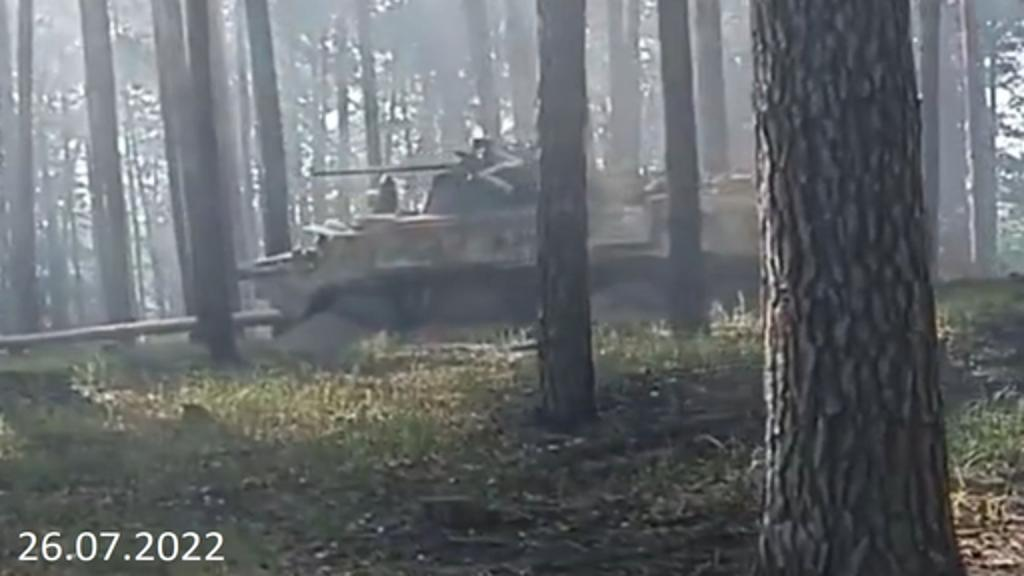APC-IFV: (234, 120, 832, 324)
